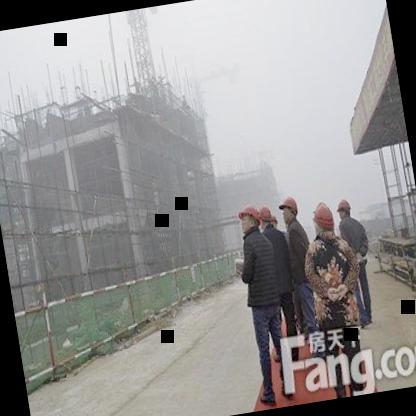helmet: (308, 197, 336, 240), (235, 200, 262, 241), (276, 194, 300, 227), (334, 196, 354, 223), (258, 202, 274, 230)
